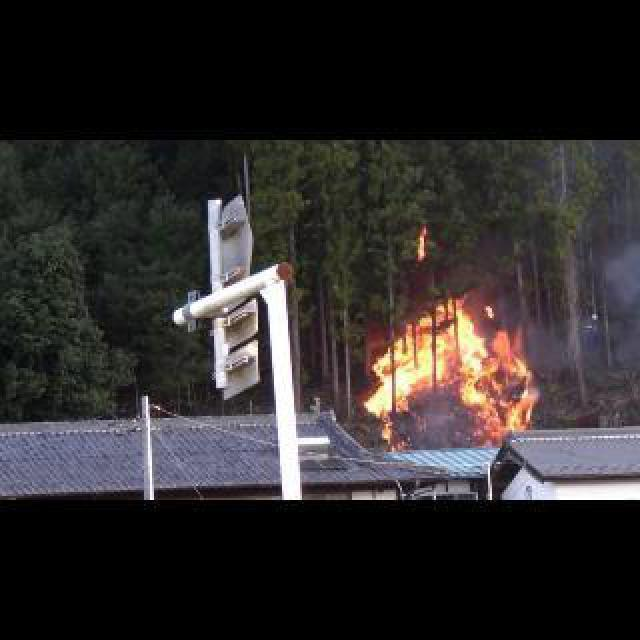Fire: (362, 292, 540, 448), (416, 224, 426, 260)
